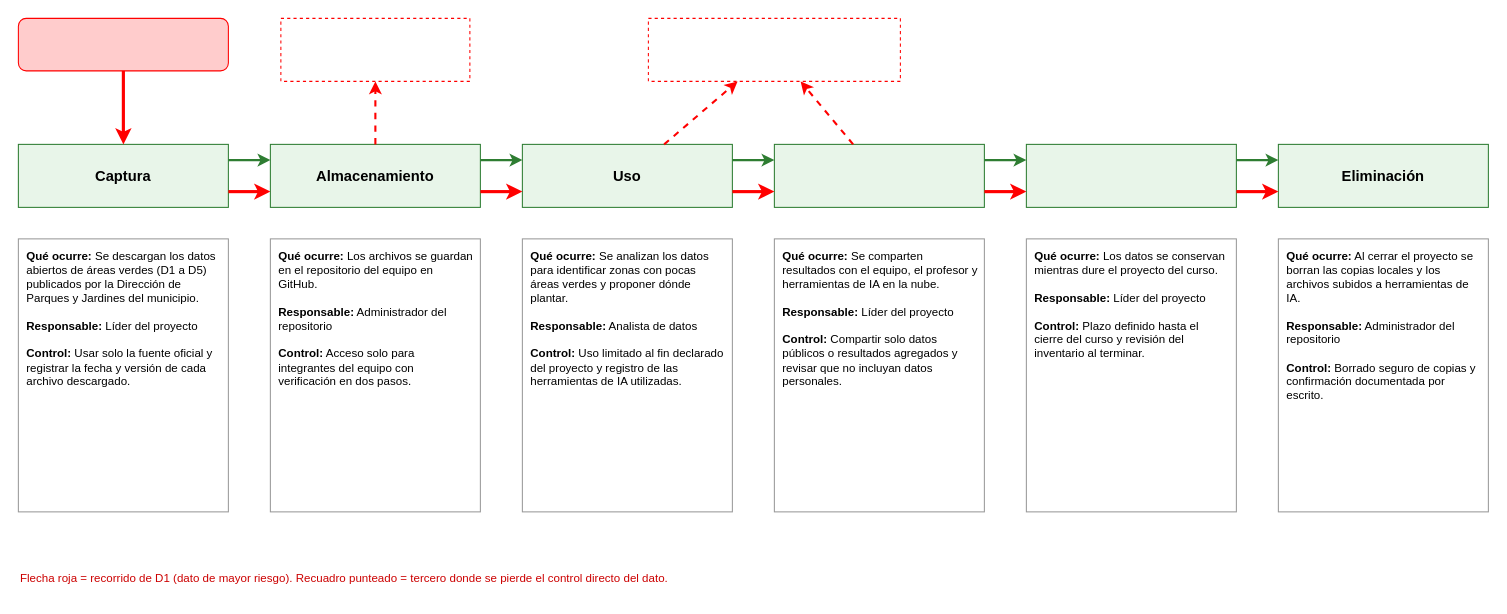
This 1507x614 diagram has some shape labels left out. The centre of each missing label's shape, as x and y in pixels:
Compartición: [878,175]
D1: Ubicación de parques y áreas verdes: [122,44]
Retención: [1130,175]
Tercero: GitHub (repositorio en la nube): [375,49]
Tercero: modelo generativo en la nube (ChatGPT, Gemini, Deepseek): [773,49]
